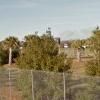Boat: (62, 41, 70, 50)
